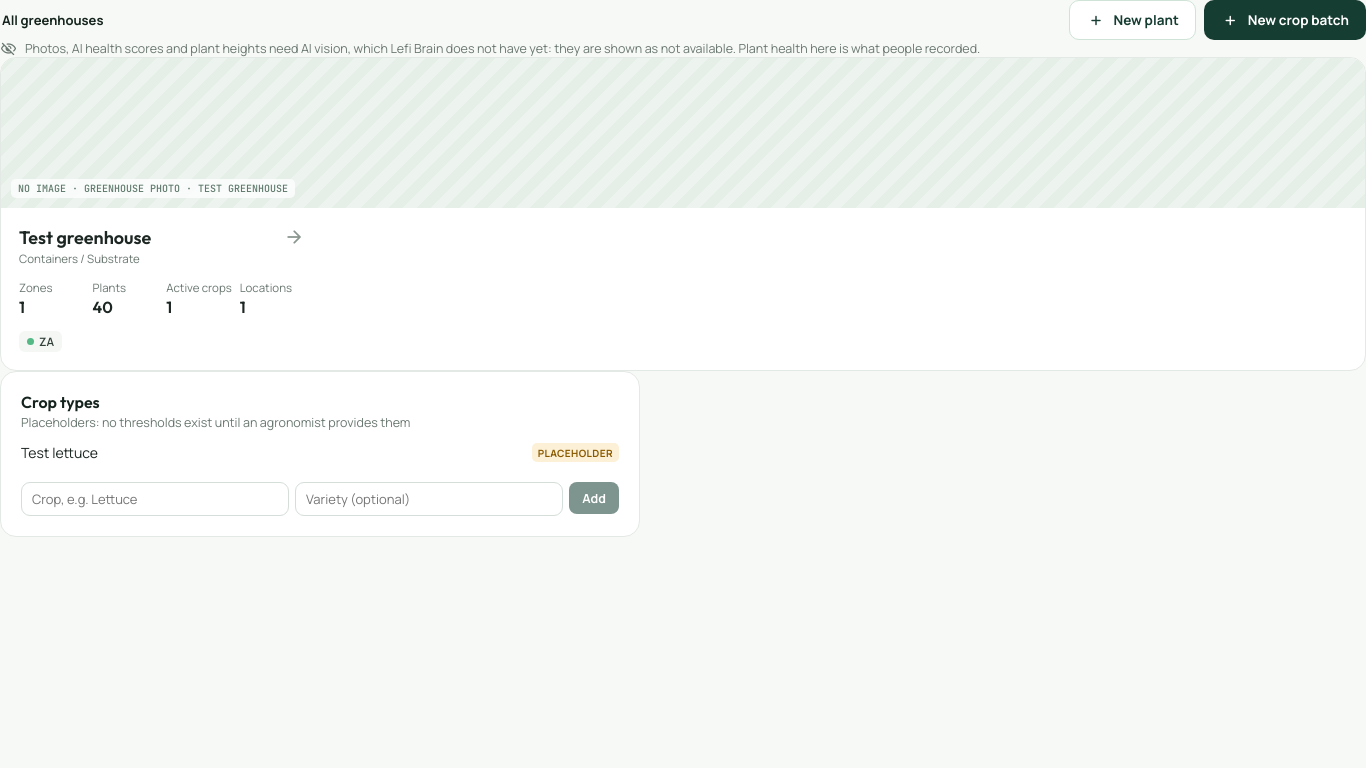
Test: Greenhouses & Crops against the real Lefi Brain › drills down greenhouse → zone → batch → plant with only what Lefi Brain has
The width and height of the screenshot is (1366, 768).
Expected: the text "40" is shown, [93,297,113,317]
Expected: the text "ZA" is shown, [19,331,62,352]
Click the button "Test greenhouse": coordinates (683, 214) [0,57,1365,371]
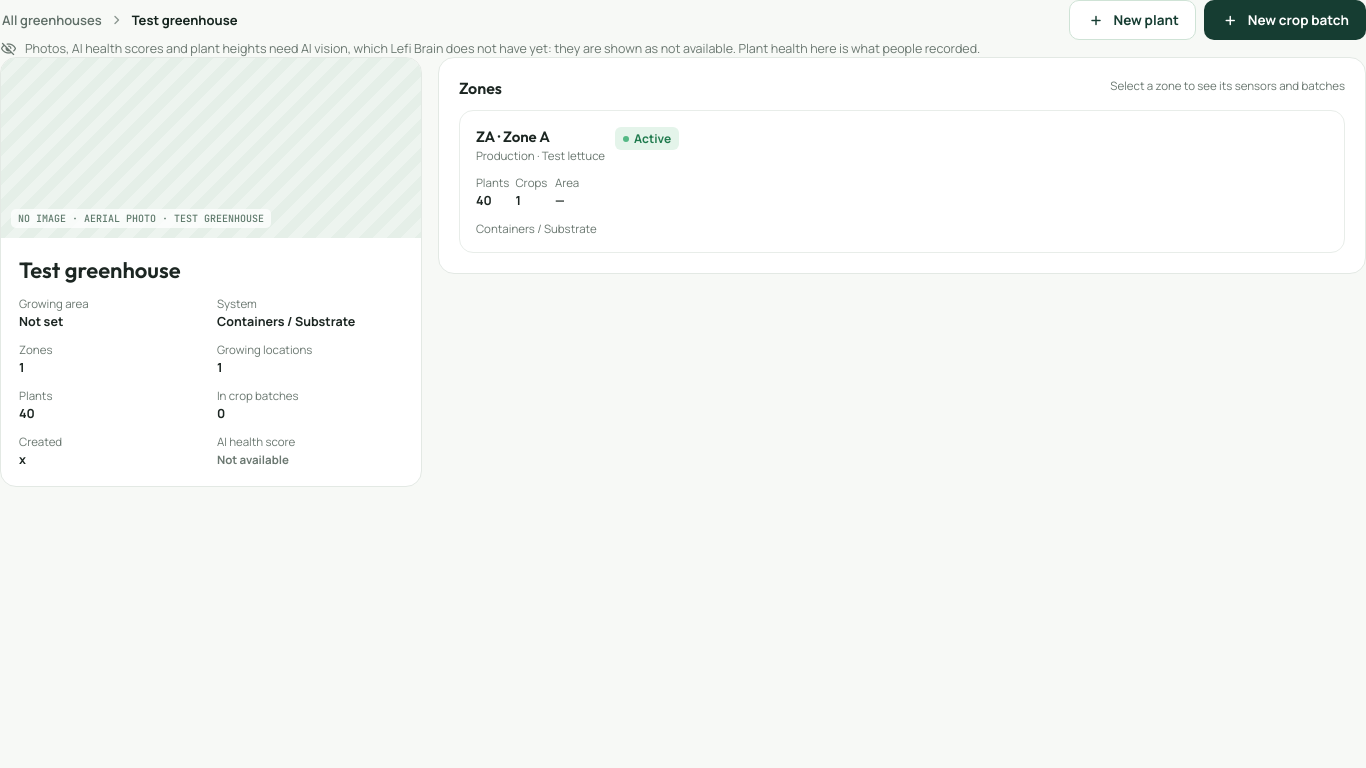
Click the button "ZA · Zone A": coordinates (513, 136) [459,110,1345,253]
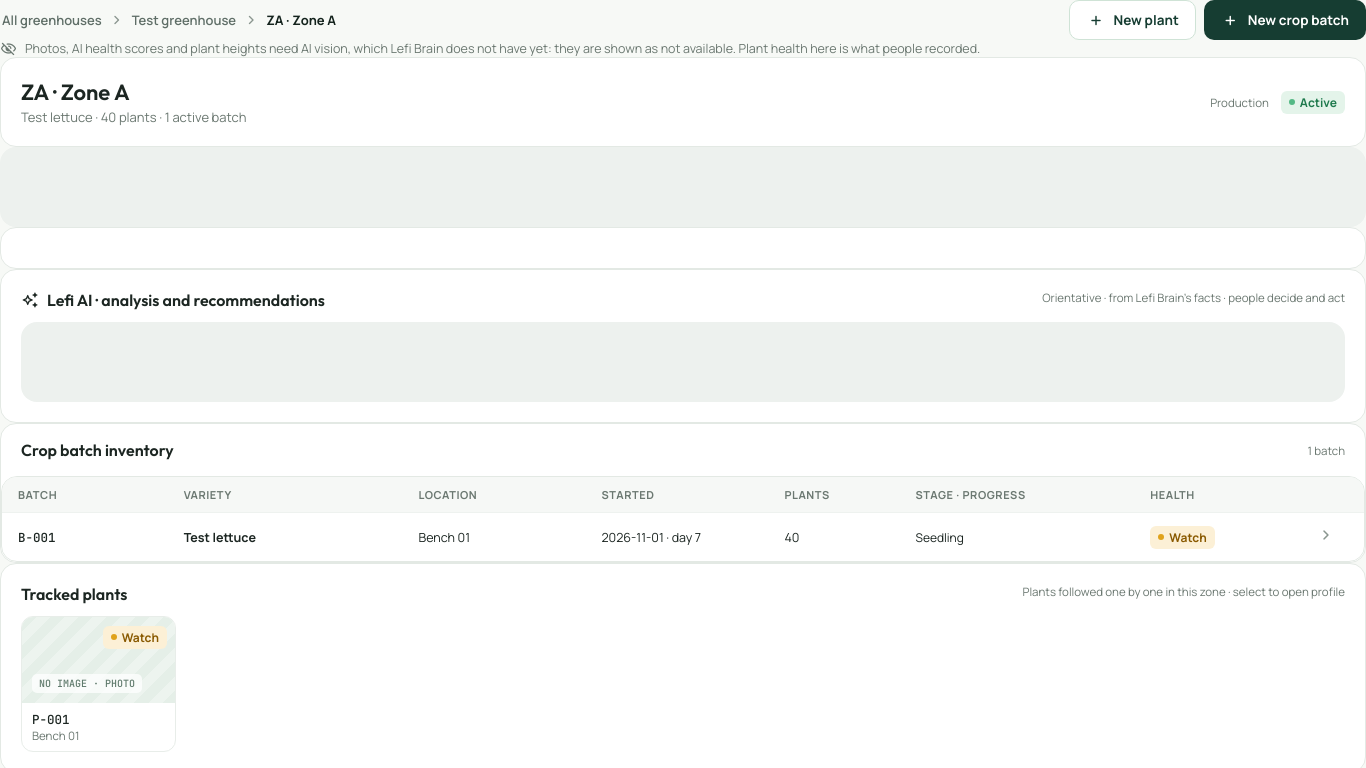
Expected: the text "B-001" is shown
Expected: the text "Seedling" is shown, [916,528,964,546]
Expected: the text "day 7" is shown, [602,528,701,546]
Click the text "B-001": coordinates (37, 537) [18,528,56,546]
(page scrolled)
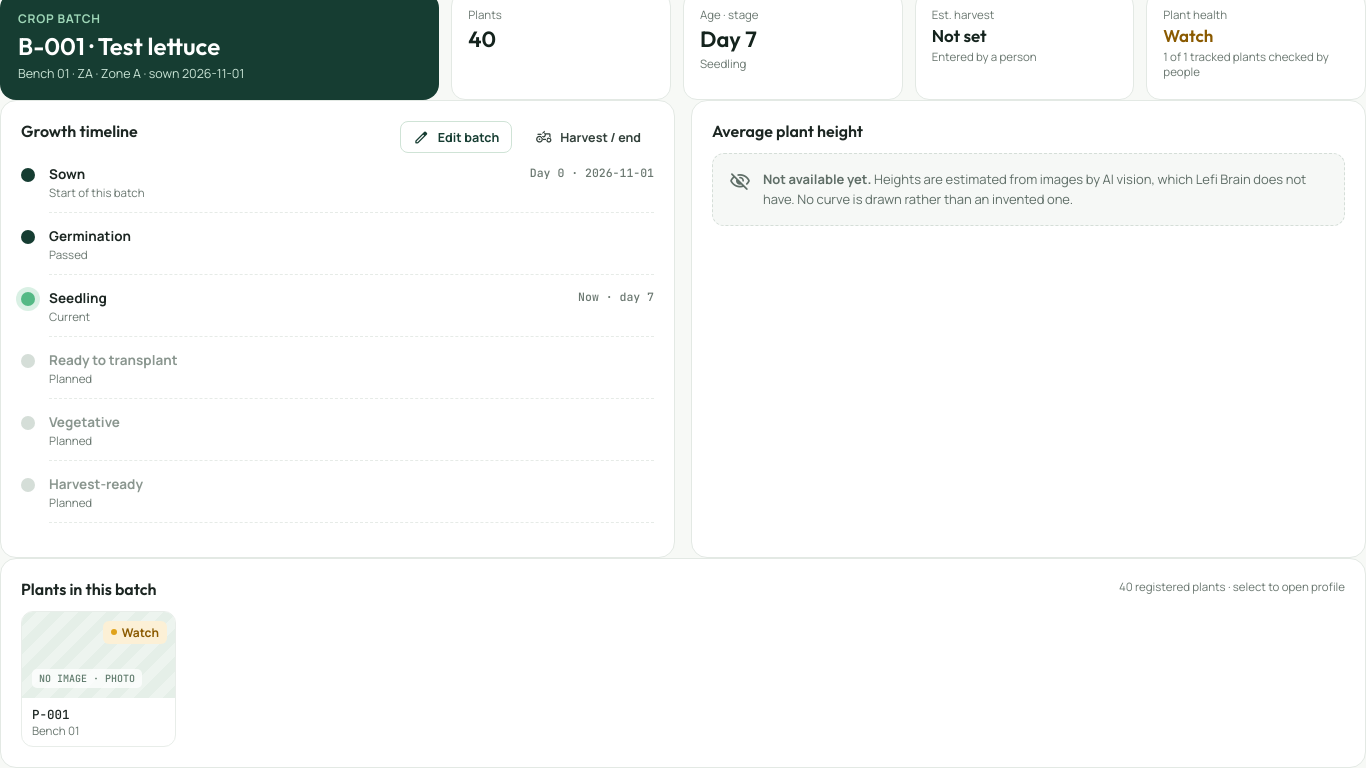
Expected: the text "Crop batch" is shown, [18,10,101,27]
Expected: the text "Day 7" is shown, [700,25,757,53]
Expected: the text "Heights are estimated from images by AI vision" is shown, [763,170,1306,208]
Click the button with aria-label "Plant P-001": coordinates (98, 679) [21,611,176,747]
(page scrolled)
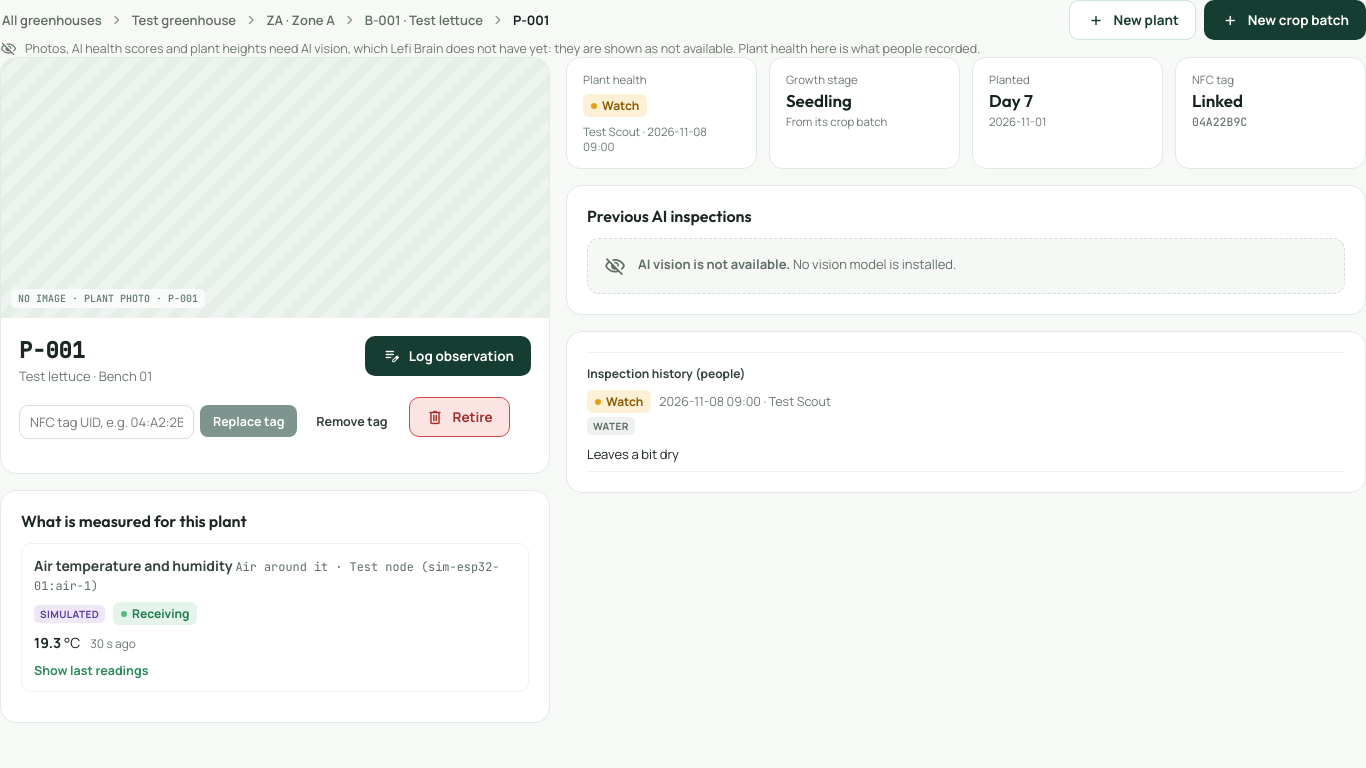
Expected: the text "Air around it · Test node (sim-esp32-01:air-1)" is shown, [34,559,500,594]
Expected: the text "19.3" is shown, [34,633,61,652]
Expected: the text "No vision model is installed." is shown, [793,255,956,273]
Click the button "All greenhouses": coordinates (52, 20) [0,7,104,33]
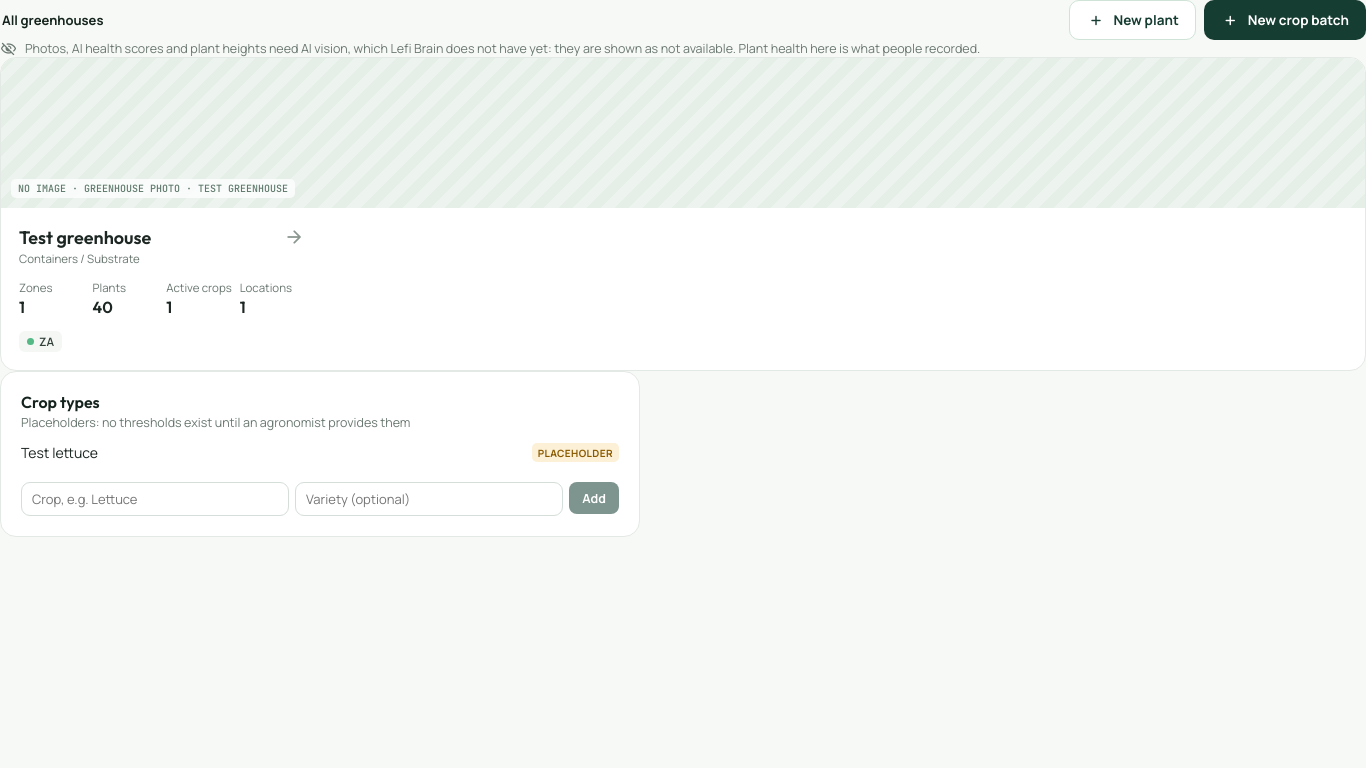
Expected: the button "Test greenhouse" is shown, [0,57,1365,371]
